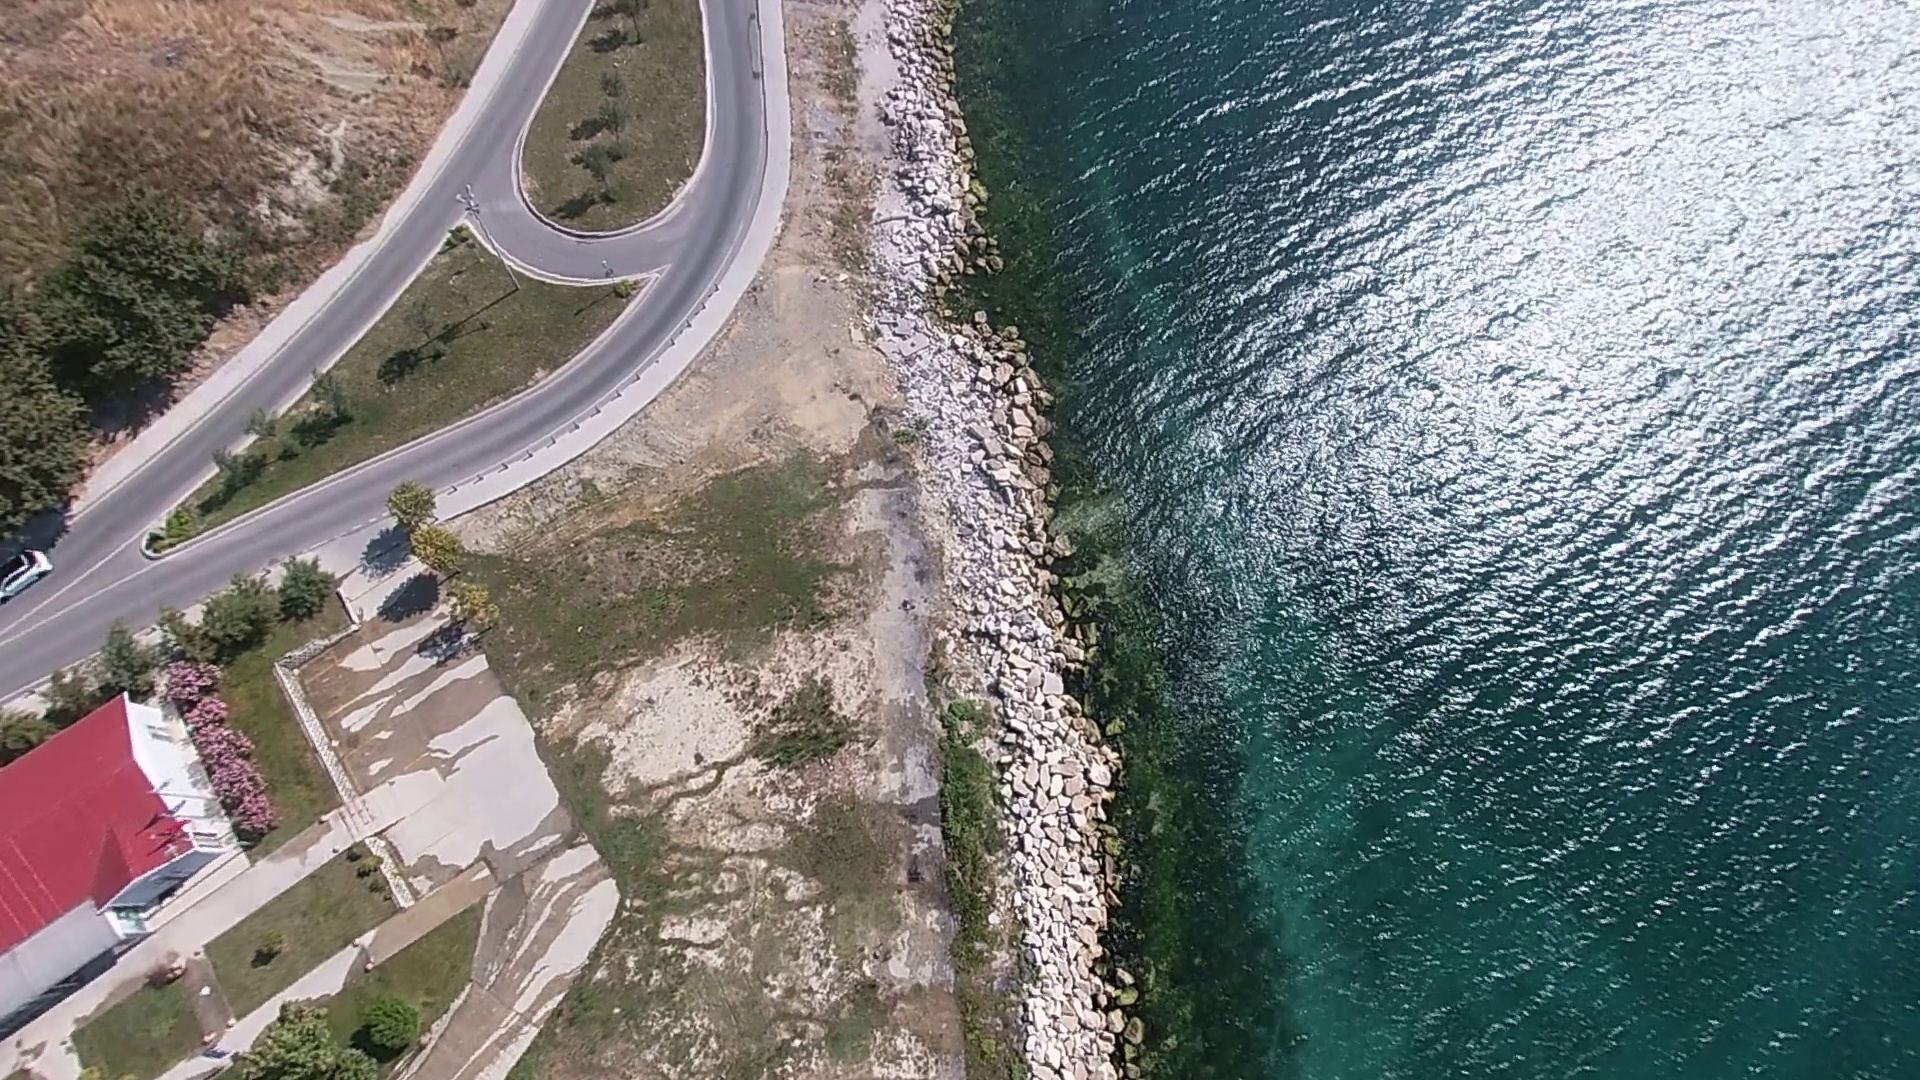arac: (0, 549, 51, 603)
